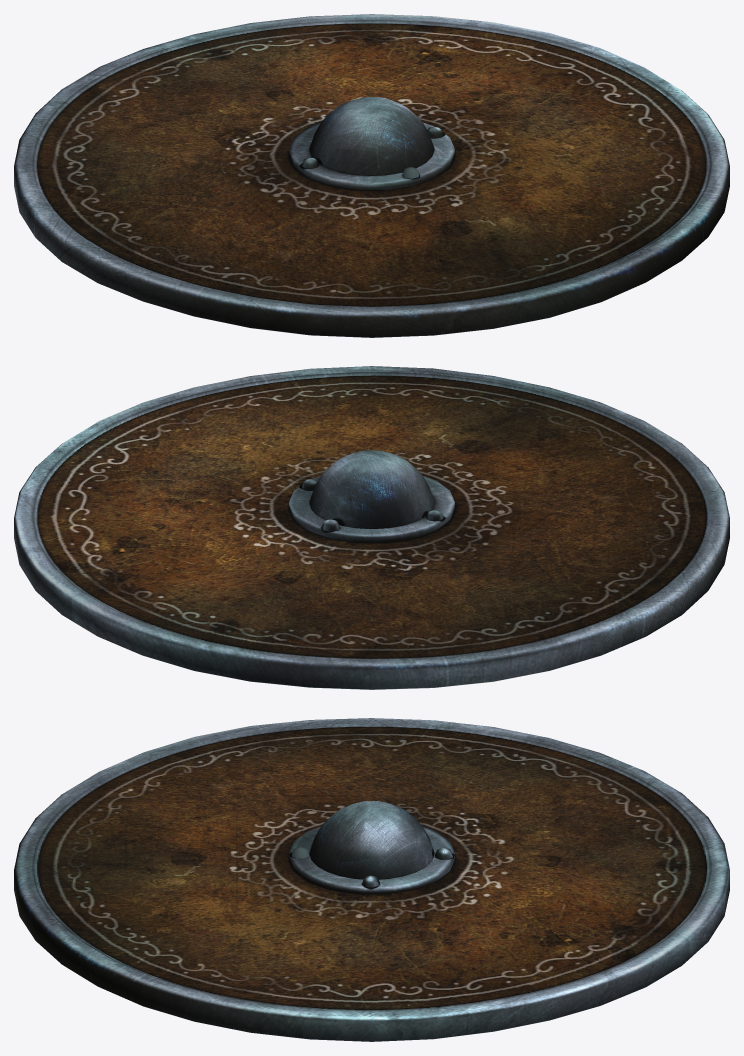
Rendered from Targe_A.FBX.
The picture shows the model from 3 angles, top to bottom: view 1: azimuth 30°, elevation 25°; view 2: azimuth 150°, elevation 25°; view 3: azimuth 270°, elevation 25°; orthographic projection.
Parts seen in each view (by area): view 1: Targe_A; view 2: Targe_A; view 3: Targe_A.
Boxes of the visible parts, bbox=[...] form: Targe_A: bbox=[14, 14, 729, 337]; Targe_A: bbox=[14, 366, 729, 689]; Targe_A: bbox=[14, 718, 729, 1041].
Bounding box in the file's own units: 64.51 × 13.58 × 64.5.
